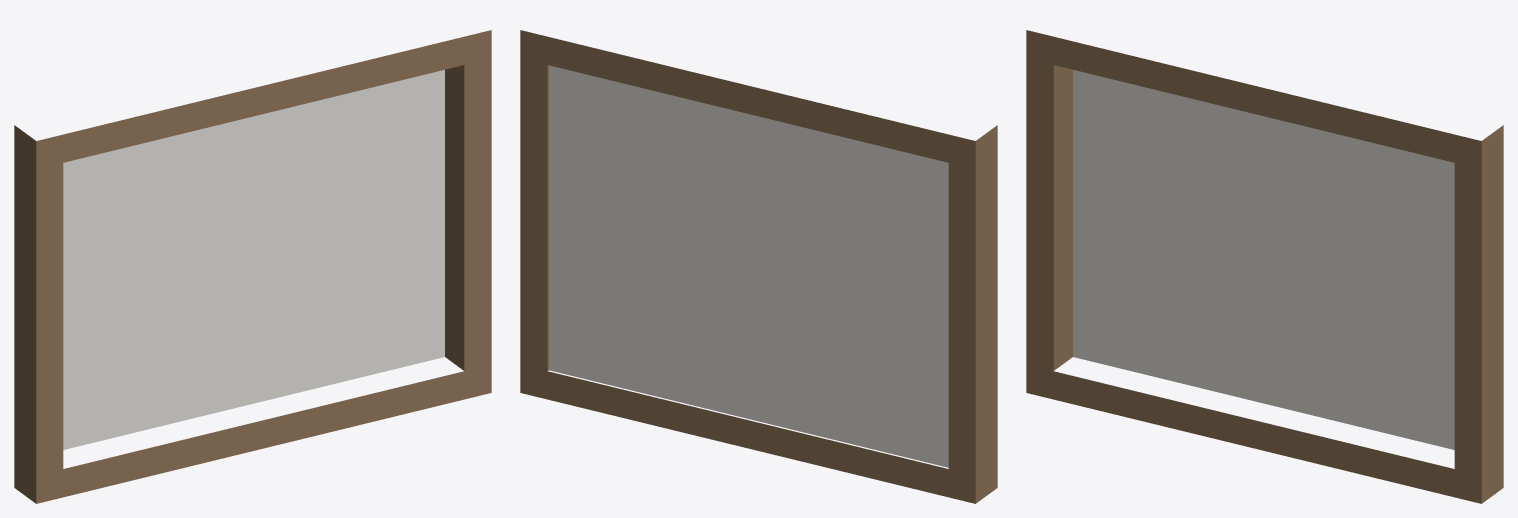
Rendered from picture_frame.glb.
The picture shows the model from 3 angles, left to right: view 1: azimuth 30°, elevation 25°; view 2: azimuth 150°, elevation 25°; view 3: azimuth 330°, elevation 25°; orthographic projection.
Parts seen in each view (by area): view 1: canvas, frame; view 2: canvas, frame; view 3: canvas, frame.
Part boxes in pixels (left/top/right/bottom): canvas: left=63, top=70, right=444, bottom=449; frame: left=14, top=30, right=491, bottom=503; canvas: left=548, top=65, right=948, bottom=467; frame: left=520, top=30, right=997, bottom=503; canvas: left=1073, top=70, right=1454, bottom=449; frame: left=1026, top=30, right=1503, bottom=503.
Bounding box in the file's own units: 0.42 × 0.32 × 0.035.
